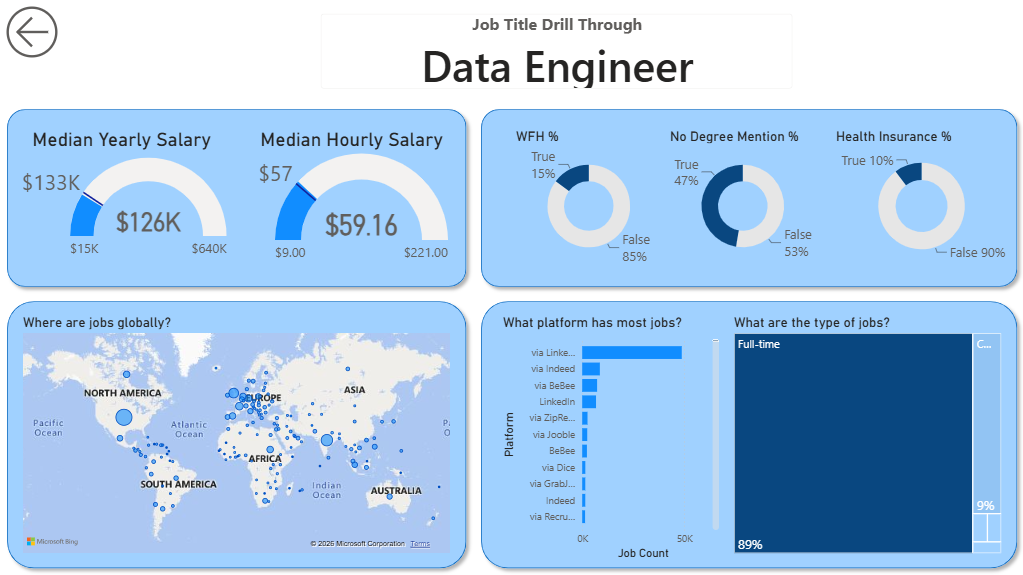

This screenshot's page, from the dashboard's own definition file:
{"tool":"powerbi","page":{"name":"Job Title Drill Through","canvas":[1280,720],"ordinal":1},"visuals":[{"type":"shape","box":[0,128,592,240],"z":0,"group":"g1"},{"type":"group","id":"g1","title":"Background","box":[0,128,1280,592],"z":500},{"type":"cardVisual","fields":{"Data":["Min(job_postings_flat.job_title_short)1"]},"box":[384,0,624,128],"z":1000},{"type":"shape","box":[592,128,688,240],"z":1000,"group":"g1"},{"type":"actionButton","box":[0,0,80,80],"z":2000},{"type":"shape","box":[0,368,592,352],"z":2000,"group":"g1"},{"type":"gauge","title":"Median Yearly Salary","fields":{"Y":["Median(job_postings_flat.salary_year_avg)"],"MinValue":["Min(job_postings_flat.salary_year_avg)1"],"MaxValue":["Max(job_postings_flat.salary_year_avg)2"],"TargetValue":["Avg(job_postings_flat.salary_year_avg)3"]},"box":[16,160,272,176],"z":3000},{"type":"shape","box":[592,368,688,352],"z":3000,"group":"g1"},{"type":"gauge","title":"Median Hourly Salary","fields":{"Y":["Median(job_postings_flat.salary_hour_avg)"],"MinValue":["Min(job_postings_flat.salary_hour_avg)"],"MaxValue":["Max(job_postings_flat.salary_hour_avg)"],"TargetValue":["Avg(job_postings_flat.salary_hour_avg)1"]},"box":[304,160,272,176],"z":4000},{"type":"donutChart","title":"WFH %","fields":{"Category":["job_postings_flat.job_work_from_home"],"Y":["CountNonNull(job_postings_flat.job_work_from_home)"]},"box":[640,160,192,176],"z":5000},{"type":"donutChart","title":"No Degree Mention %","fields":{"Category":["job_postings_flat.job_no_degree_mention"],"Y":["CountNonNull(job_postings_flat.job_work_from_home)"]},"box":[832,160,192,176],"z":6000},{"type":"donutChart","title":"Health Insurance %","fields":{"Category":["job_postings_flat.job_health_insurance"],"Y":["CountNonNull(job_postings_flat.job_work_from_home)"]},"box":[1040,160,224,176],"z":7000},{"type":"map","title":"Where are jobs globally?","fields":{"Category":["job_postings_flat.job_country"],"Size":["CountNonNull(job_postings_flat.job_title_short)"]},"box":[24,392,544,304],"z":8000},{"type":"treemap","title":"What are the type of jobs?","fields":{"Group":["job_postings_flat.job_schedule_type"],"Values":["CountNonNull(job_postings_flat.job_schedule_type)"]},"box":[912,392,344,304],"z":9000},{"type":"barChart","title":"What platform has most jobs?","fields":{"Y":["CountNonNull(job_postings_flat.job_via)"],"Category":["job_postings_flat.job_via"]},"box":[624,392,280,312],"z":10000}]}

Visuals, with their boxes in screenshot pixels (x1, y1, x2, y2), scaled from the page's 1280x720 canvas onto the 1023x575 screenshot:
shape: {"left": 0, "top": 102, "right": 473, "bottom": 294}
"Background" group: {"left": 0, "top": 102, "right": 1022, "bottom": 574}
cardVisual - Min(job_postings_flat.job_title_short)1: {"left": 307, "top": 0, "right": 806, "bottom": 102}
shape: {"left": 473, "top": 102, "right": 1022, "bottom": 294}
actionButton: {"left": 0, "top": 0, "right": 64, "bottom": 64}
shape: {"left": 0, "top": 294, "right": 473, "bottom": 574}
"Median Yearly Salary" gauge: {"left": 13, "top": 128, "right": 230, "bottom": 268}
shape: {"left": 473, "top": 294, "right": 1022, "bottom": 574}
"Median Hourly Salary" gauge: {"left": 243, "top": 128, "right": 460, "bottom": 268}
"WFH %" donutChart: {"left": 512, "top": 128, "right": 665, "bottom": 268}
"No Degree Mention %" donutChart: {"left": 665, "top": 128, "right": 818, "bottom": 268}
"Health Insurance %" donutChart: {"left": 831, "top": 128, "right": 1010, "bottom": 268}
"Where are jobs globally?" map: {"left": 19, "top": 313, "right": 454, "bottom": 556}
"What are the type of jobs?" treemap: {"left": 729, "top": 313, "right": 1004, "bottom": 556}
"What platform has most jobs?" barChart: {"left": 499, "top": 313, "right": 722, "bottom": 562}
